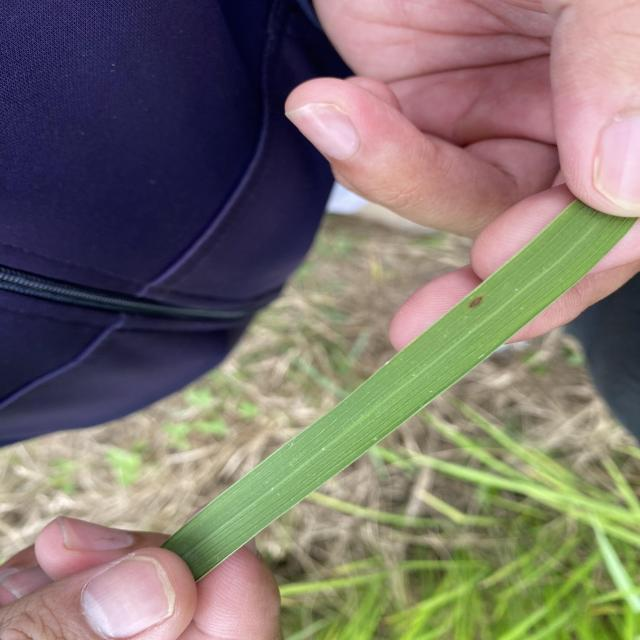Dom nau: (469, 295, 485, 307)
